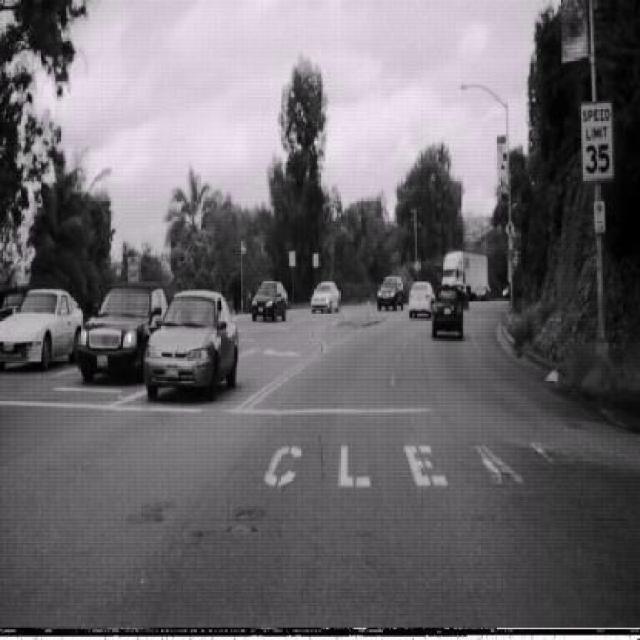speedLimit35: (580, 100, 615, 181)
